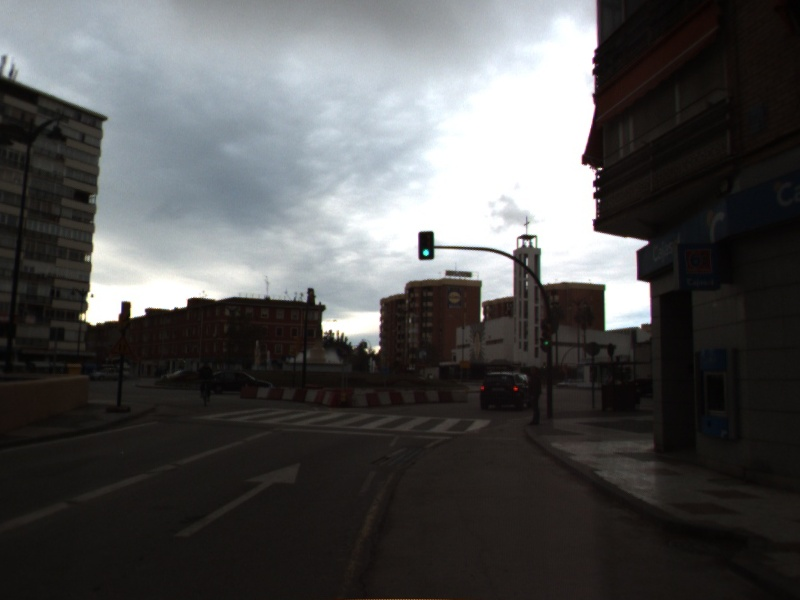STRAIGHT: (171, 460, 304, 539)
